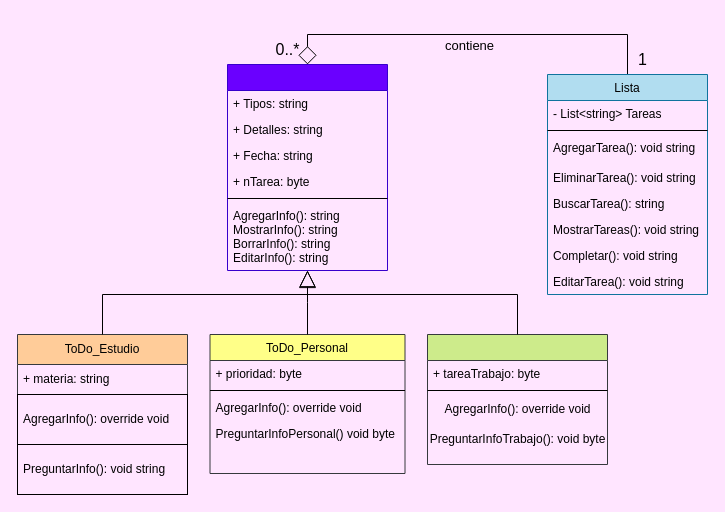
The diagram is 725 pixels wide and 512 high, and some of its shapes have lost their labels. Each missing label, with the box of its shape:
ToDo: (226, 64, 388, 270)
ToDo_Trabajo: (426, 334, 608, 464)
